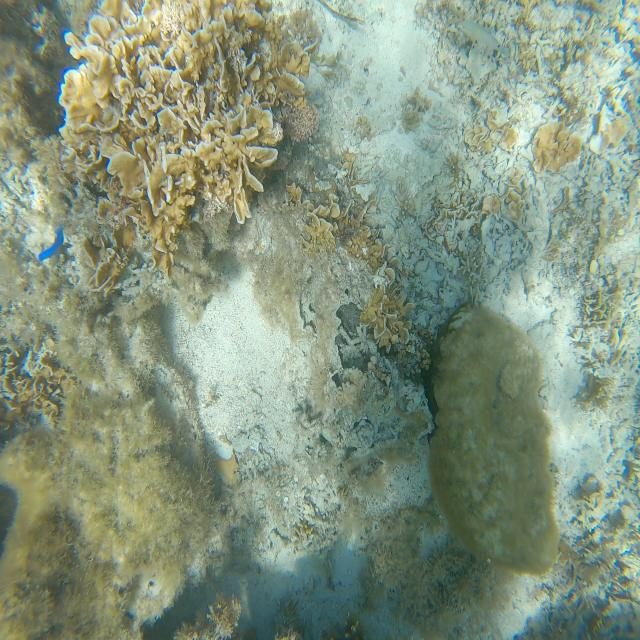rurisuzumedai: (39, 230, 64, 261)
